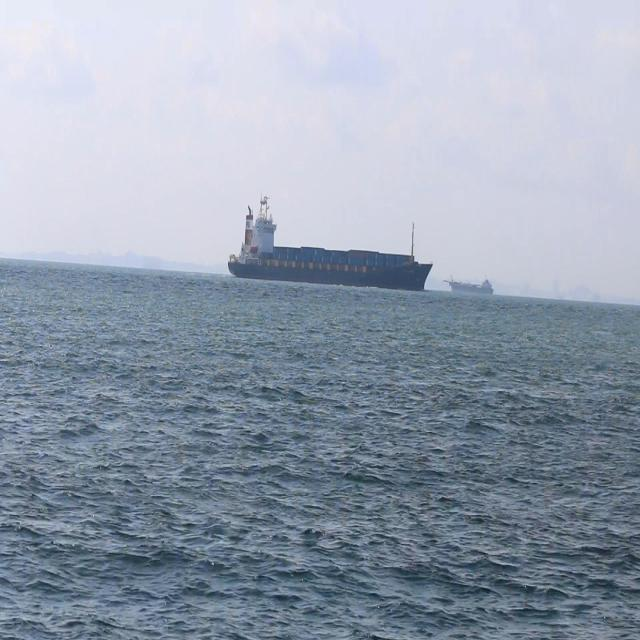ship: (227, 190, 434, 289), (442, 272, 496, 297)
